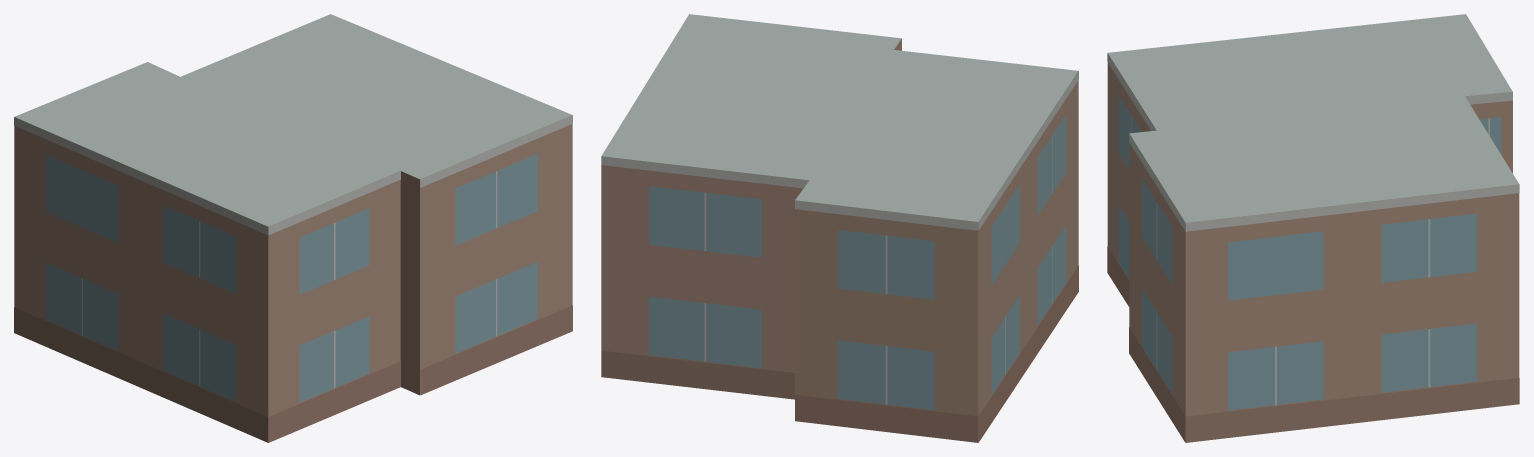
The model's file is survey-upis-32661984.glb.
3 views of the same model, side by side, from view 1: azimuth 30°, elevation 25°; view 2: azimuth 150°, elevation 25°; view 3: azimuth 270°, elevation 25° (orthographic). The views are drawn at different scales.
Parts seen in each view (by area): view 1: survey-upis-32661984.tmp; view 2: survey-upis-32661984.tmp; view 3: survey-upis-32661984.tmp.
Part boxes in pixels (left/top/right/bottom): survey-upis-32661984.tmp: left=14, top=14, right=572, bottom=442; survey-upis-32661984.tmp: left=601, top=14, right=1078, bottom=442; survey-upis-32661984.tmp: left=1107, top=14, right=1519, bottom=442.
Size of the model in its own units: 12.44 by 6.1 by 10.37.
